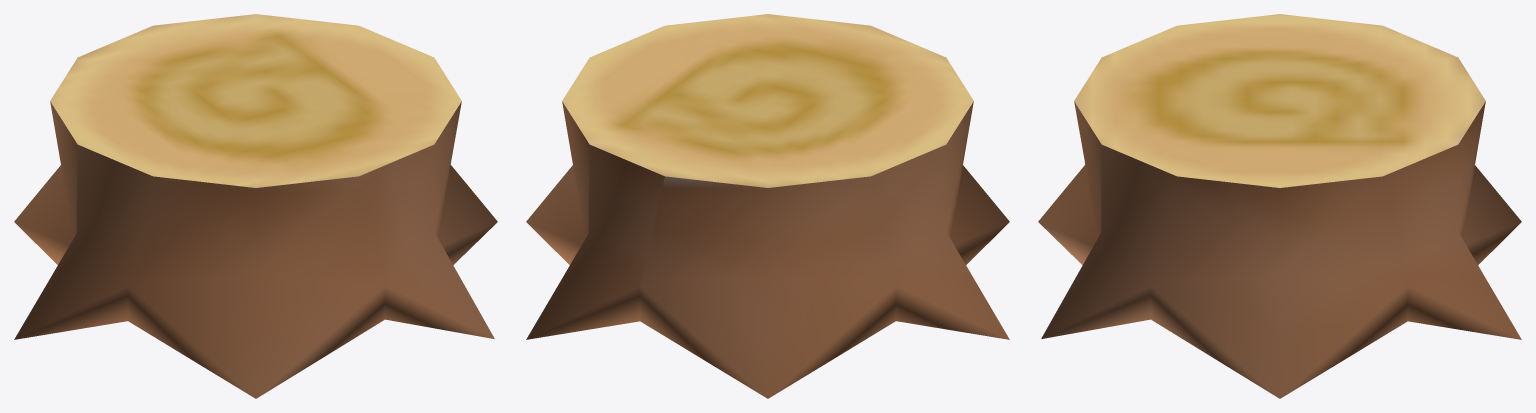
The model's file is goc-cay.fbx.
3 views of the same model, side by side, from view 1: azimuth 30°, elevation 25°; view 2: azimuth 150°, elevation 25°; view 3: azimuth 270°, elevation 25° (orthographic).
Parts seen in each view (by area): view 1: goc_cay; view 2: goc_cay; view 3: goc_cay.
Boxes of the visible parts, bbox=[...] form: goc_cay: bbox=[14, 14, 497, 398]; goc_cay: bbox=[526, 14, 1009, 398]; goc_cay: bbox=[1038, 14, 1521, 398].
Size of the model in its own units: 4.41 by 1.57 by 3.82.
Materials: 1 (1 with a texture image).
